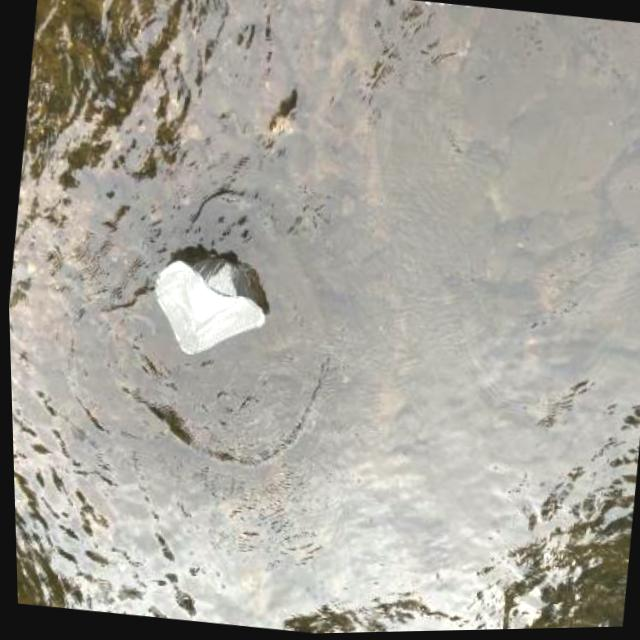Can-Metal: (139, 242, 275, 373), (413, 1, 499, 22)
